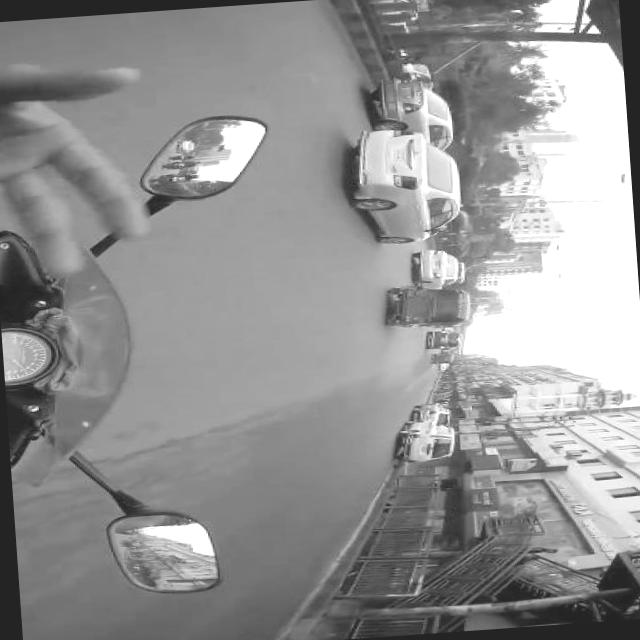car: (342, 122, 470, 250), (357, 71, 458, 157), (404, 248, 462, 293)
motorcycle: (378, 280, 476, 334)
truck: (397, 416, 458, 466), (421, 328, 464, 351)
